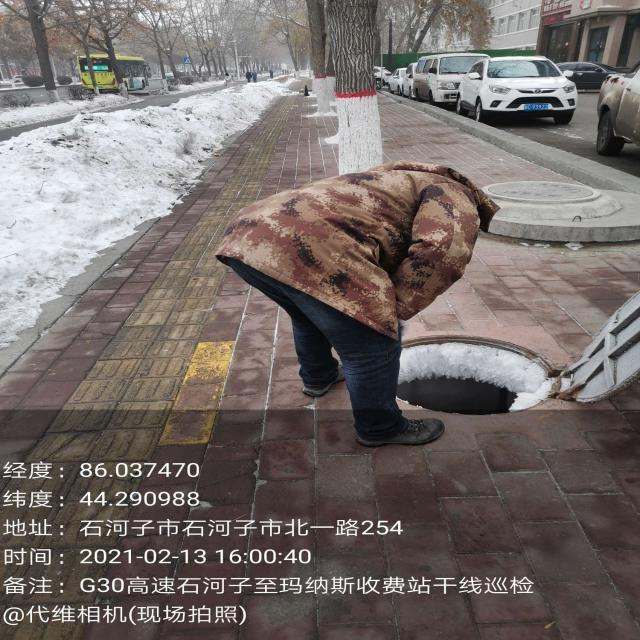manhole: (398, 336, 554, 413)
